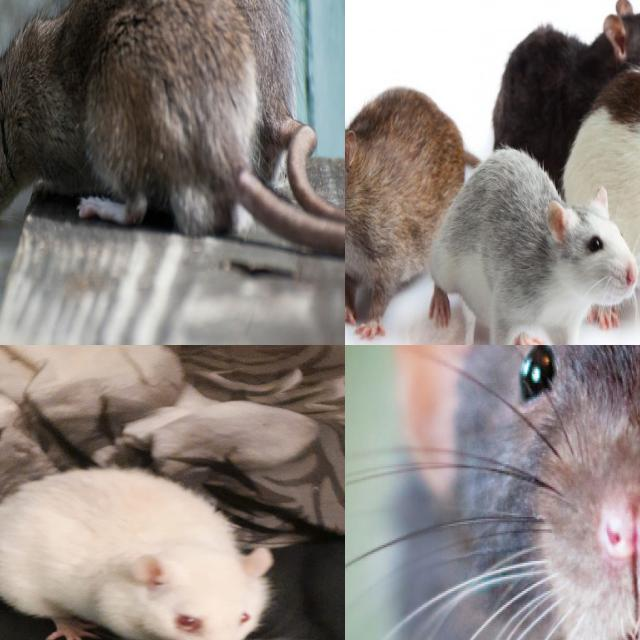rat: (365, 345, 640, 640), (0, 0, 250, 264), (0, 466, 270, 640), (0, 0, 312, 141), (429, 158, 635, 345), (345, 94, 471, 340), (492, 4, 640, 171), (567, 83, 640, 316)
